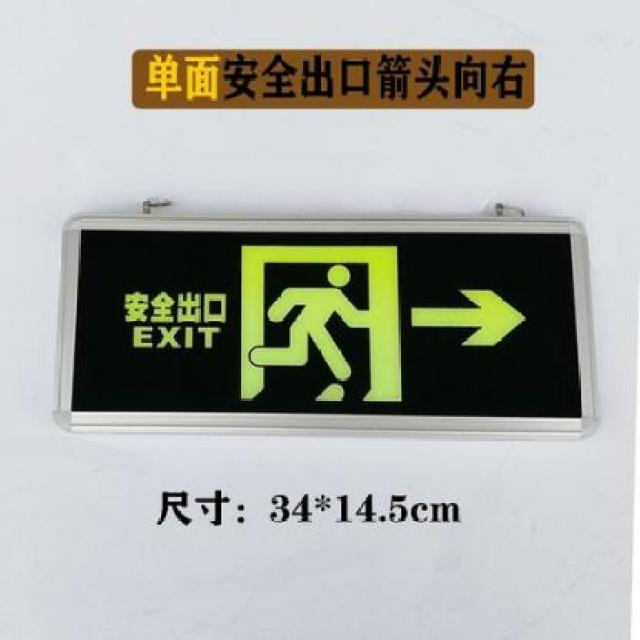exit_sign: (66, 229, 584, 419)
